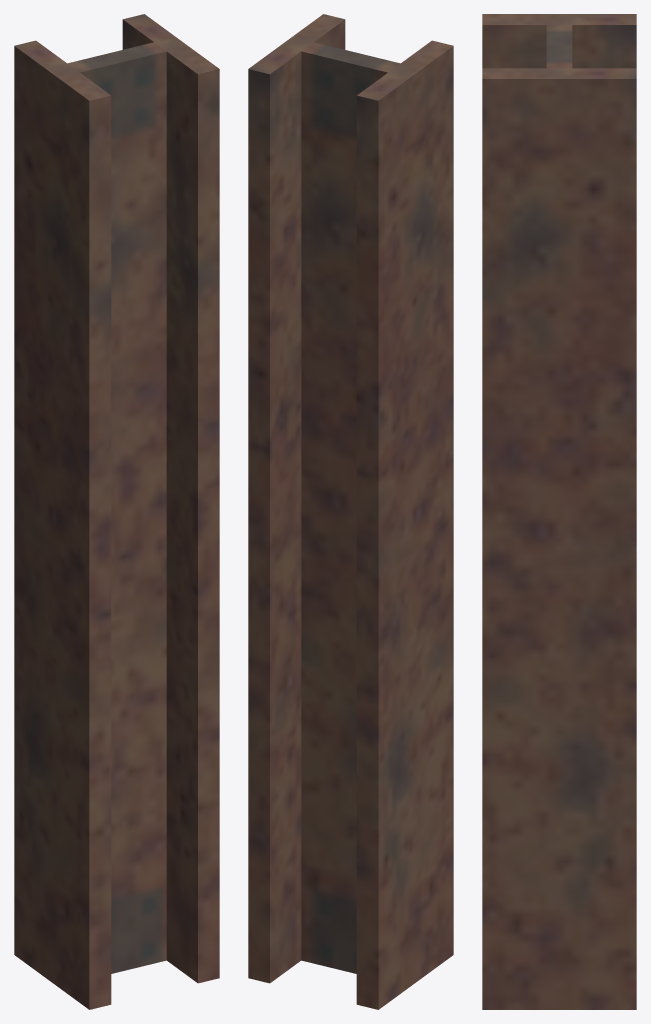
Rendered from Hbeam.fbx.
3 views of the same model, side by side, from view 1: azimuth 30°, elevation 25°; view 2: azimuth 150°, elevation 25°; view 3: azimuth 270°, elevation 25° (orthographic). The views are drawn at different scales.
Parts seen in each view (by area): view 1: Beam.001; view 2: Beam.001; view 3: Beam.001.
Part boxes in pixels (bbox=[...]): Beam.001: bbox=[14, 14, 219, 1009]; Beam.001: bbox=[248, 14, 453, 1009]; Beam.001: bbox=[482, 14, 636, 1009].
Size of the model in its own units: 60 by 60 by 400.
